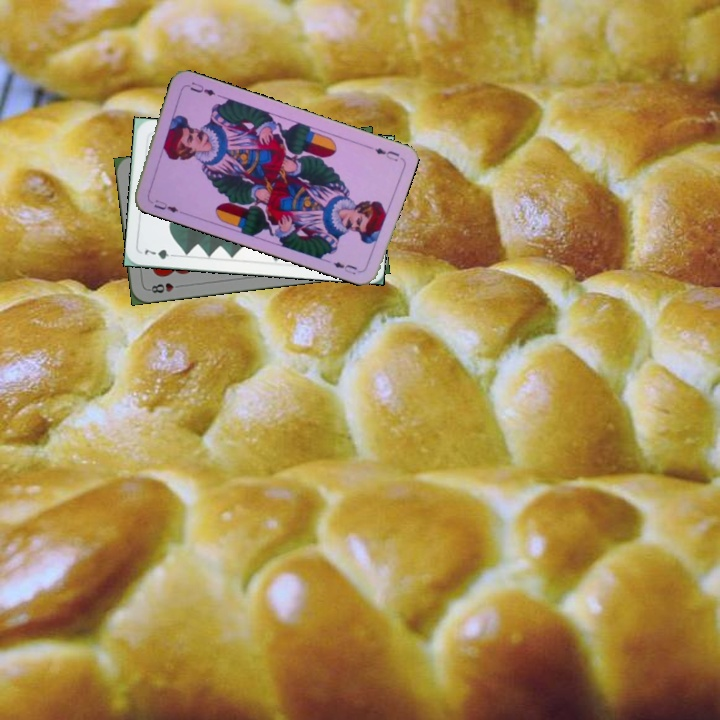EU: (363, 142, 402, 164), (150, 195, 184, 216)
G7: (141, 245, 180, 262)
H8: (145, 279, 185, 295)
